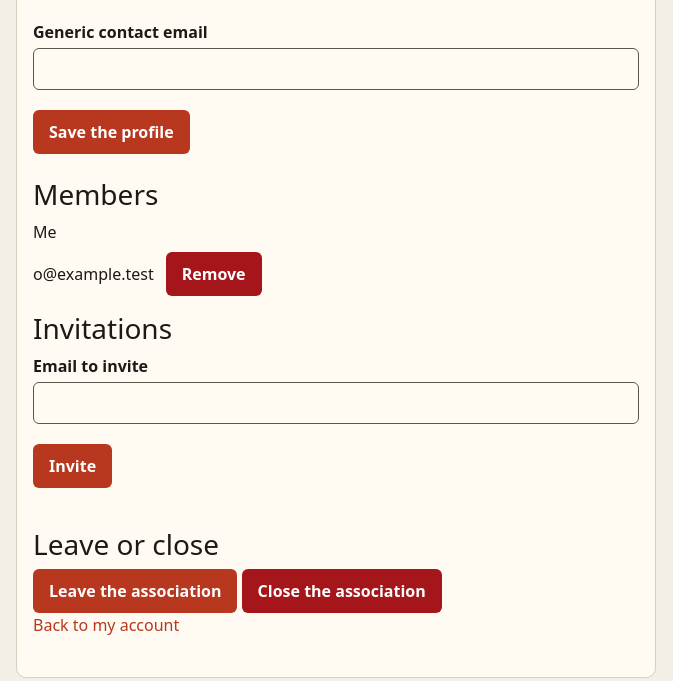
Test: AssociationPage (UC7, UC8, UC10, UC12) › a refused action shows the server message
(page scrolled)
Click the button "Close the association" at x=342, y=591, box [242,569,442,613]
(page scrolled)
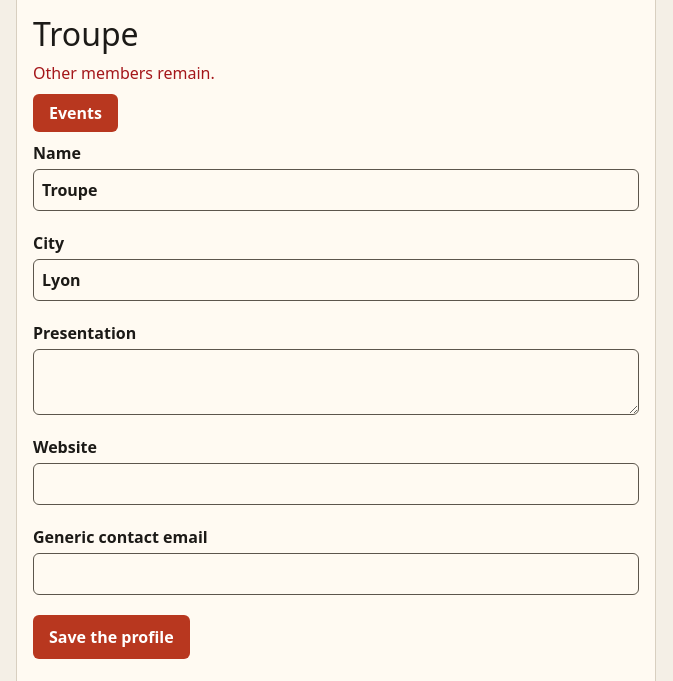
Expected: the message reads "Other members remain.", [33,62,215,84]
